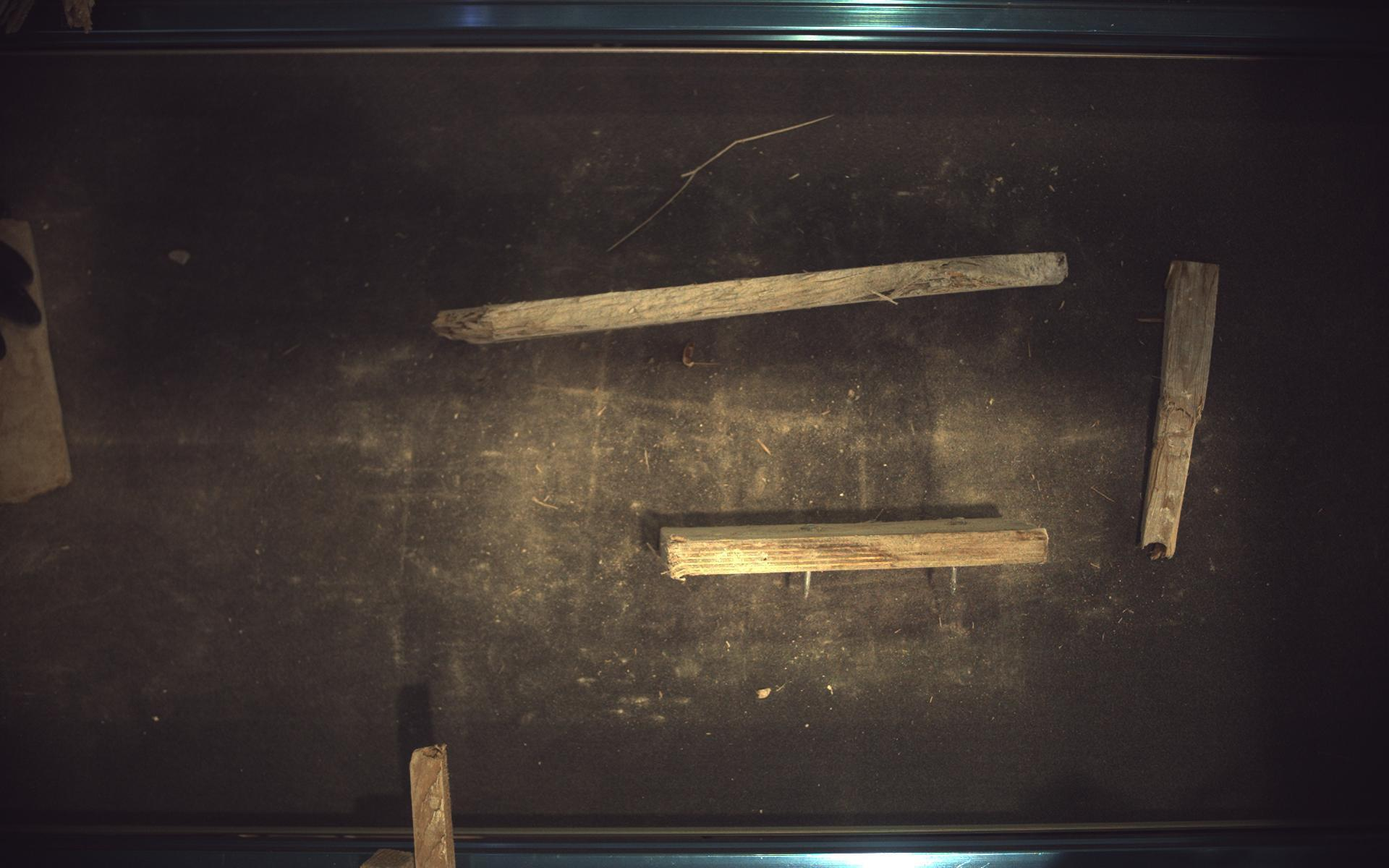wood: (433, 252, 1070, 344), (1143, 260, 1222, 561), (661, 518, 1050, 579)
